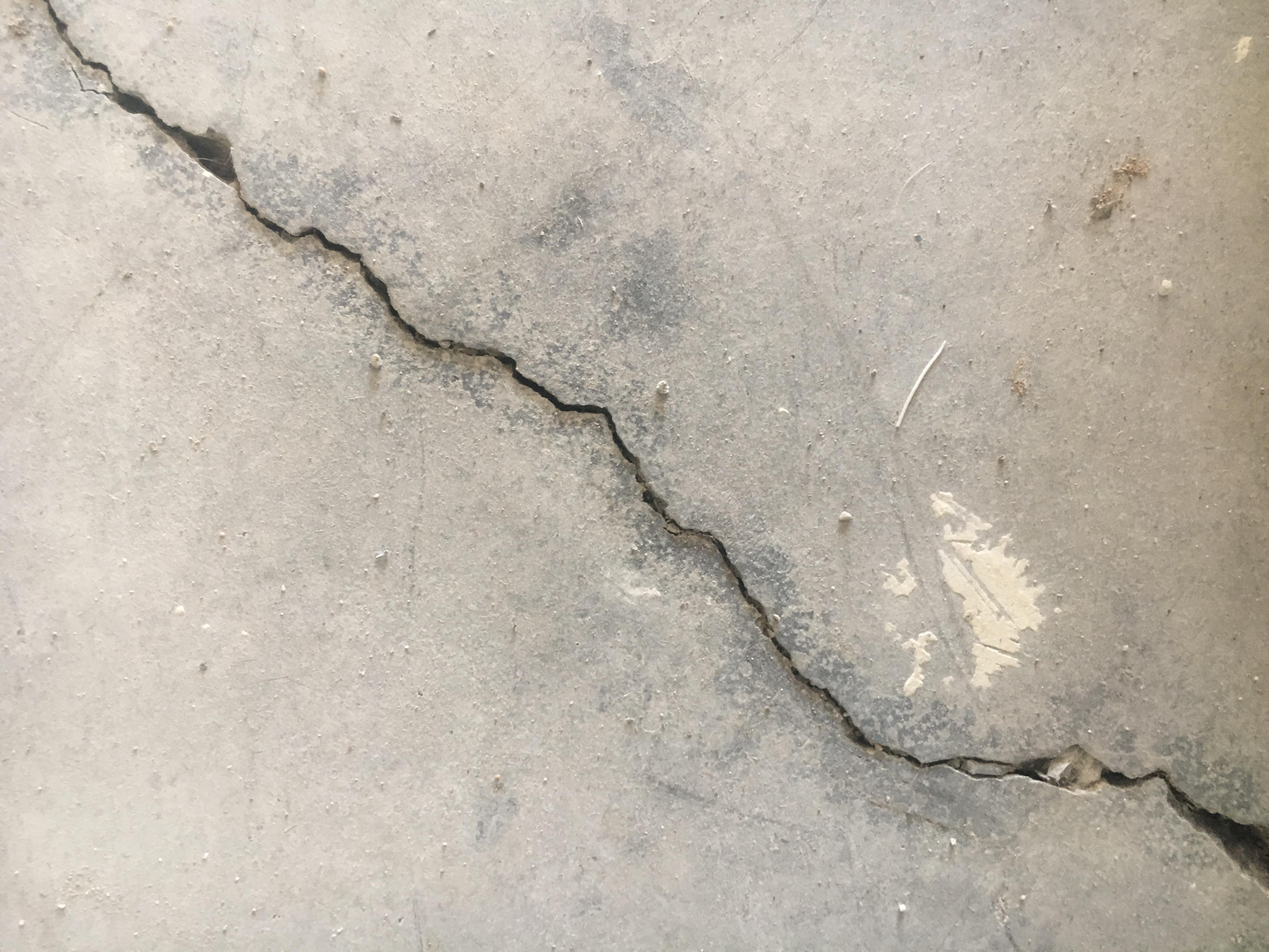Diagonal Crack: (43, 3, 1263, 888)
